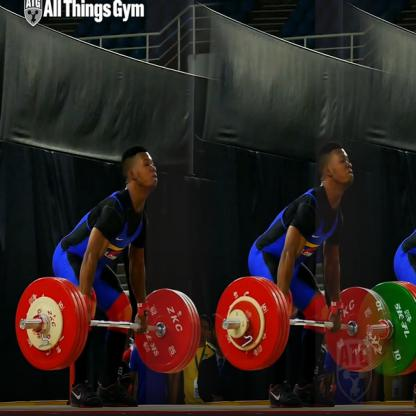Barbell: (212, 271, 294, 380), (12, 269, 92, 380)
